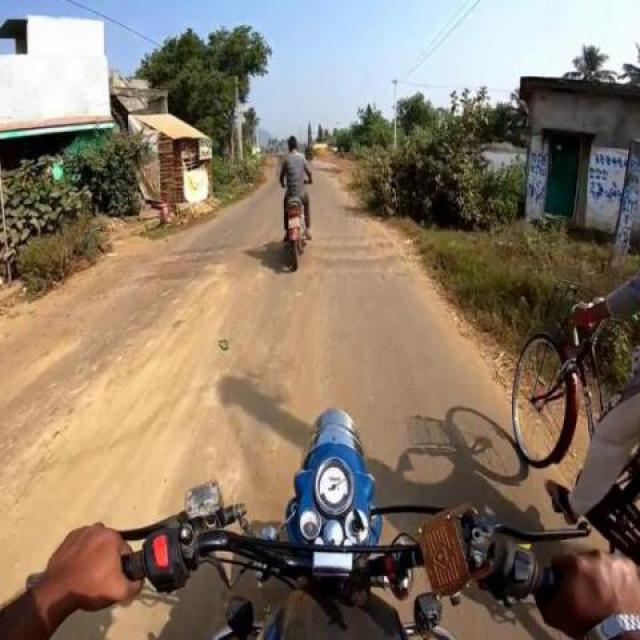Unmarked Bump: (138, 264, 286, 288), (161, 233, 283, 256), (147, 251, 282, 270), (303, 254, 408, 273), (302, 241, 400, 259), (310, 234, 394, 244)
